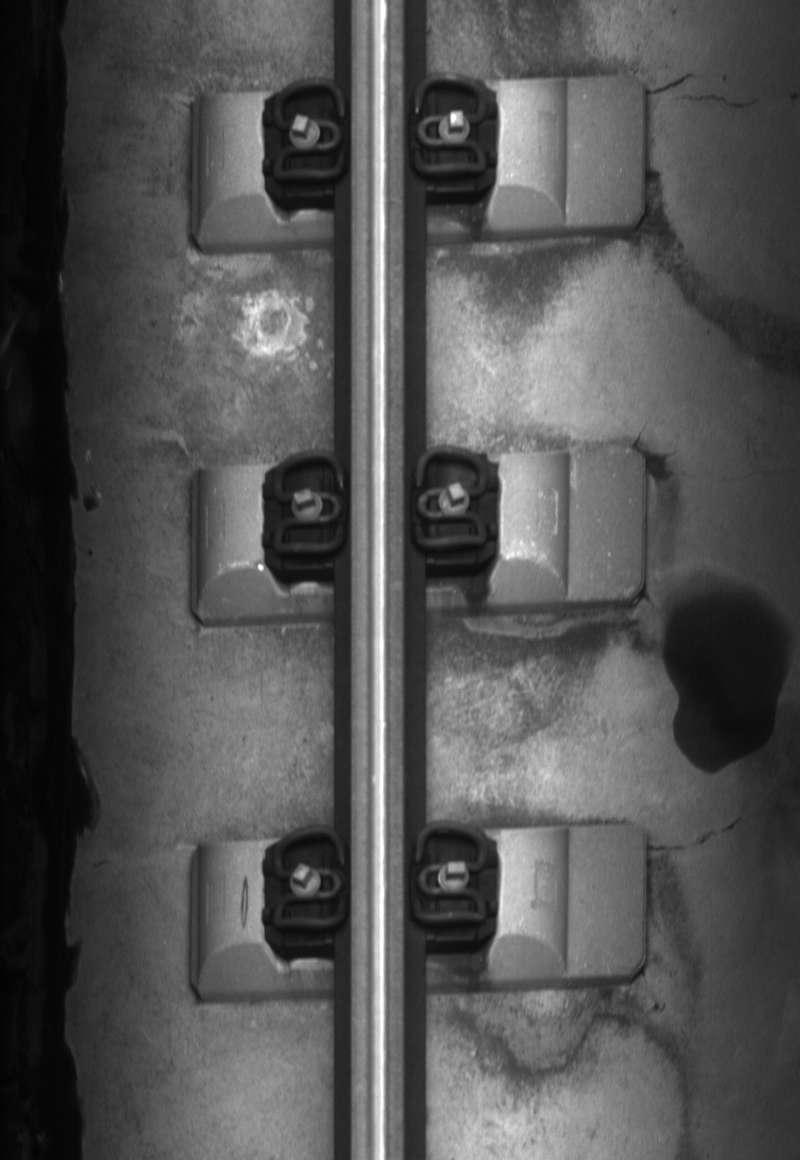l_faster: (266, 821, 351, 936), (266, 73, 350, 186), (267, 447, 351, 558)
r_faster: (407, 819, 493, 930), (410, 442, 493, 557), (409, 70, 490, 181)
